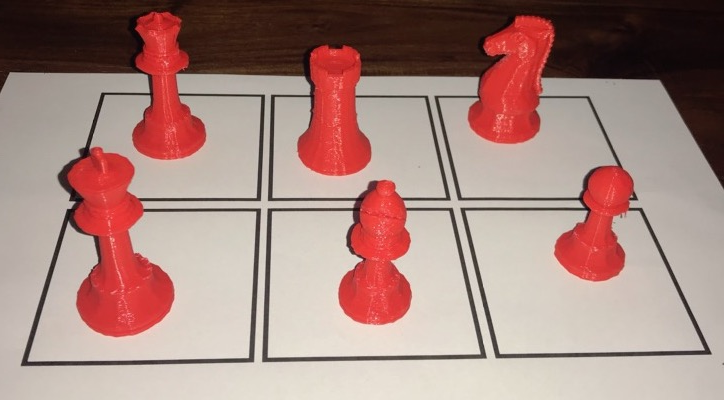Red Bishop: (328, 177, 427, 331)
Red Castle: (285, 40, 382, 176)
Red King: (53, 138, 194, 344)
Red Knight: (458, 10, 565, 148)
Red Pawn: (549, 161, 634, 290)
Red Queen: (118, 6, 212, 162)
